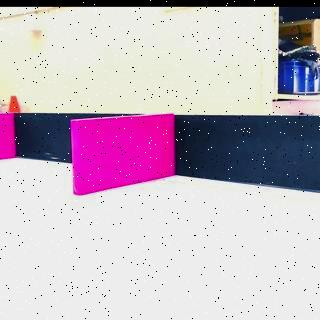xparking: (73, 120, 174, 188), (0, 114, 14, 160)
